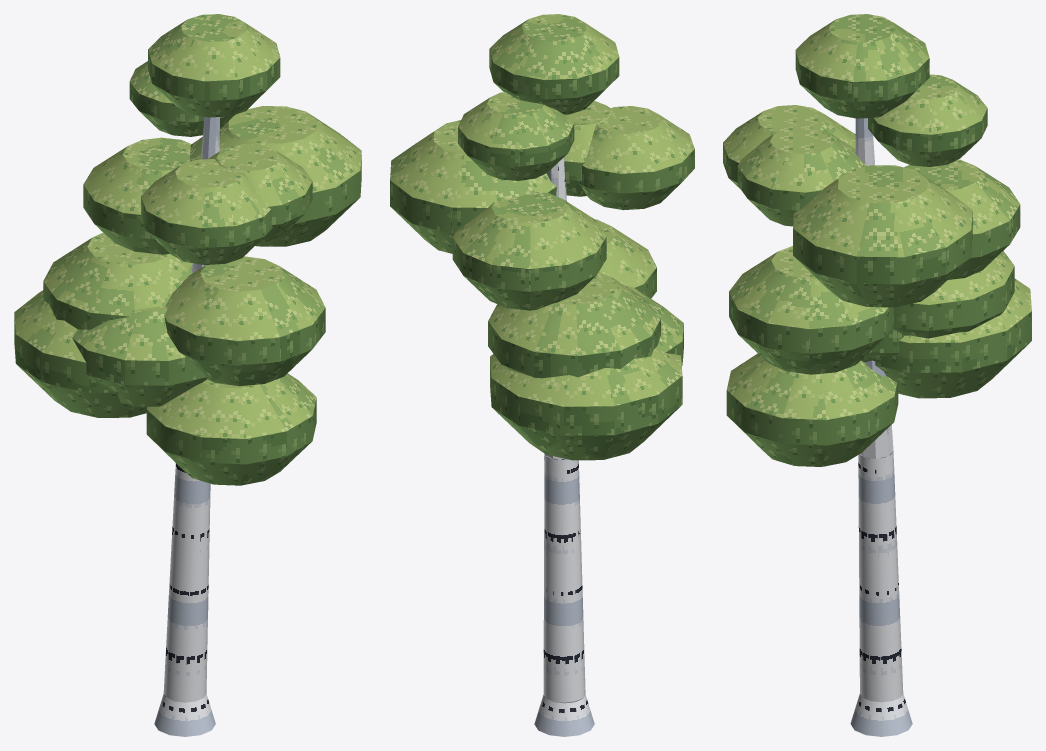
File: birch_6.glb
3 renders of one model, left to right at view 1: azimuth 30°, elevation 25°; view 2: azimuth 150°, elevation 25°; view 3: azimuth 270°, elevation 25°, orthographic. The views are drawn at different scales.
Parts seen in each view (by area): view 1: birch_7; view 2: birch_7; view 3: birch_7.
Boxes of the visible parts, left/top/right/bottom form: birch_7: left=14, top=14, right=361, bottom=736; birch_7: left=390, top=14, right=694, bottom=736; birch_7: left=723, top=14, right=1031, bottom=736.
Size of the model in its own units: 2.57 by 5.75 by 2.28.
3 materials, 3 textured.
